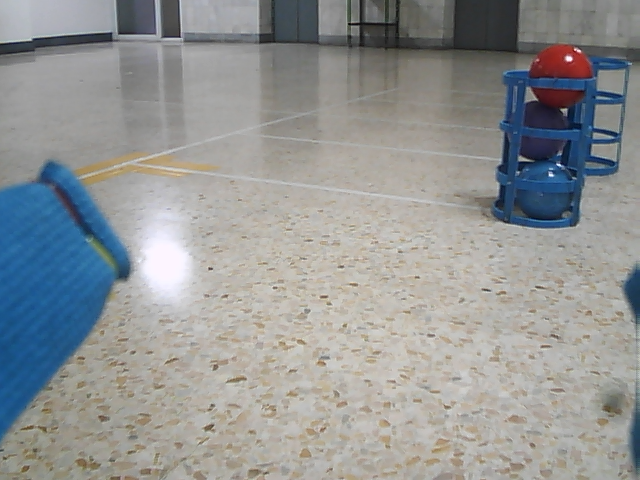Blue ball: (517, 161, 574, 221)
Cyro: (492, 68, 595, 230), (582, 56, 633, 180)
Purple ball: (517, 100, 569, 163)
Red ball: (529, 43, 592, 105)
